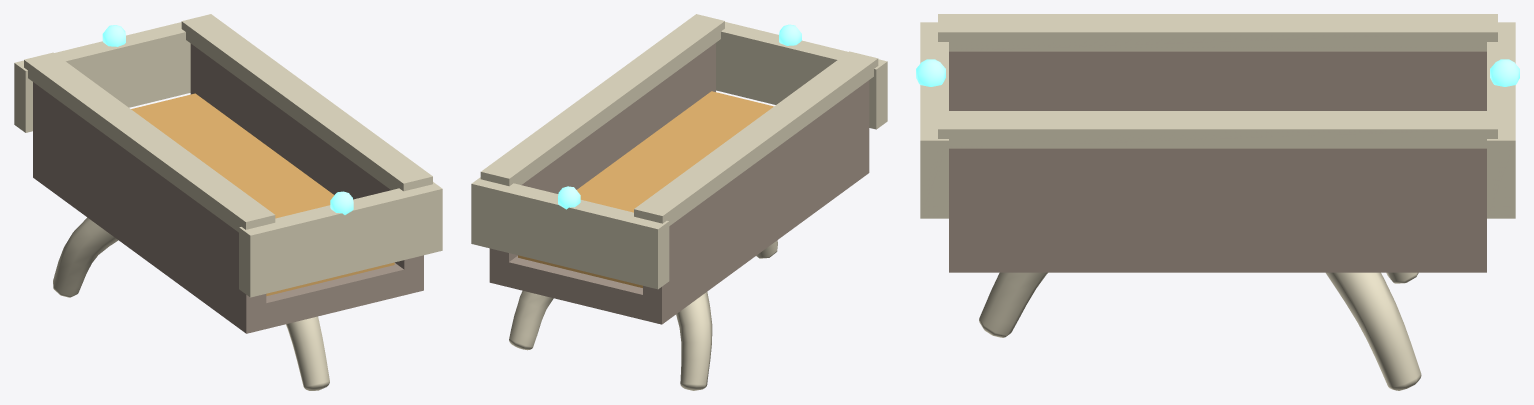
Rendered from xeno-species-and-alien-creatures-xeno-feeding-trough-b26820af__21142.glb.
The picture shows the model from 3 angles, left to right: view 1: azimuth 30°, elevation 25°; view 2: azimuth 150°, elevation 25°; view 3: azimuth 270°, elevation 25°; orthographic projection. The views are drawn at different scales.
Visible parts, largest first — view 1: xeno-feeding-trough; view 2: xeno-feeding-trough; view 3: xeno-feeding-trough.
Boxes of the visible parts, x1,y1,x2,y2 form: xeno-feeding-trough: (14, 14, 442, 390); xeno-feeding-trough: (471, 14, 887, 390); xeno-feeding-trough: (916, 14, 1519, 390).
Size of the model in its own units: 0.8183 by 0.8464 by 1.68.
